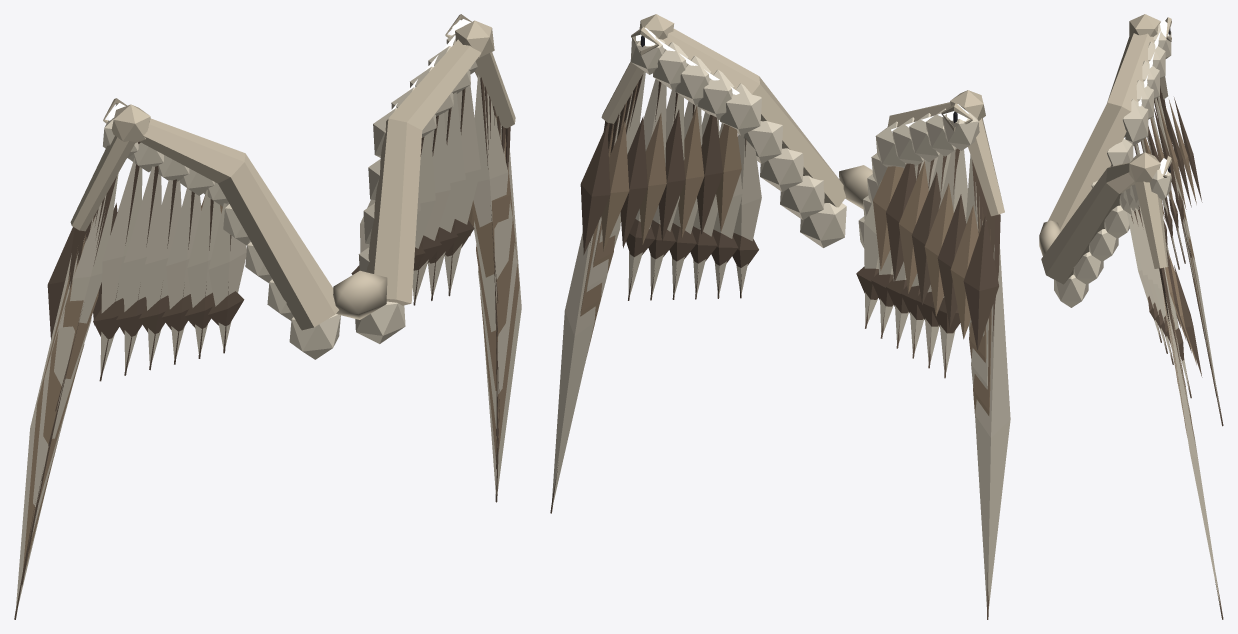
Rendered from wings-2.glb.
The picture shows the model from 3 angles, left to right: view 1: azimuth 30°, elevation 25°; view 2: azimuth 150°, elevation 25°; view 3: azimuth 270°, elevation 25°; orthographic projection. The views are drawn at different scales.
Parts seen in each view (by area): view 1: wing_r, wing_l, root; view 2: wing_l, wing_r, root; view 3: wing_l, wing_r, root.
Boxes of the visible parts, x1,y1,x2,y2 form: wing_r: (14, 104, 340, 619); wing_l: (351, 20, 521, 502); root: (333, 270, 387, 319); wing_l: (550, 14, 846, 513); wing_r: (856, 90, 1010, 619); root: (839, 165, 872, 209); wing_l: (1041, 152, 1223, 619); wing_r: (1048, 14, 1223, 426); root: (1039, 220, 1060, 255).
Size of the model in its own units: 1.14 by 1.19 by 0.4498.
